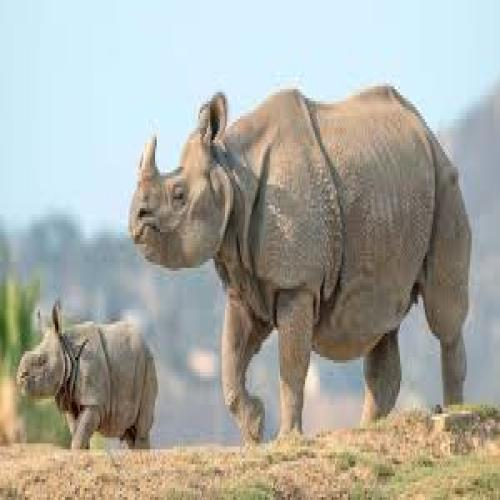rhino-endangered: (128, 82, 470, 448), (17, 303, 158, 448)
